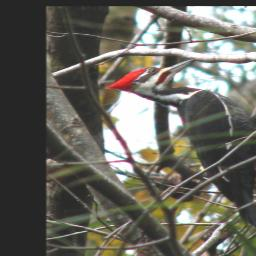Woodpecker: (105, 58, 256, 247)
